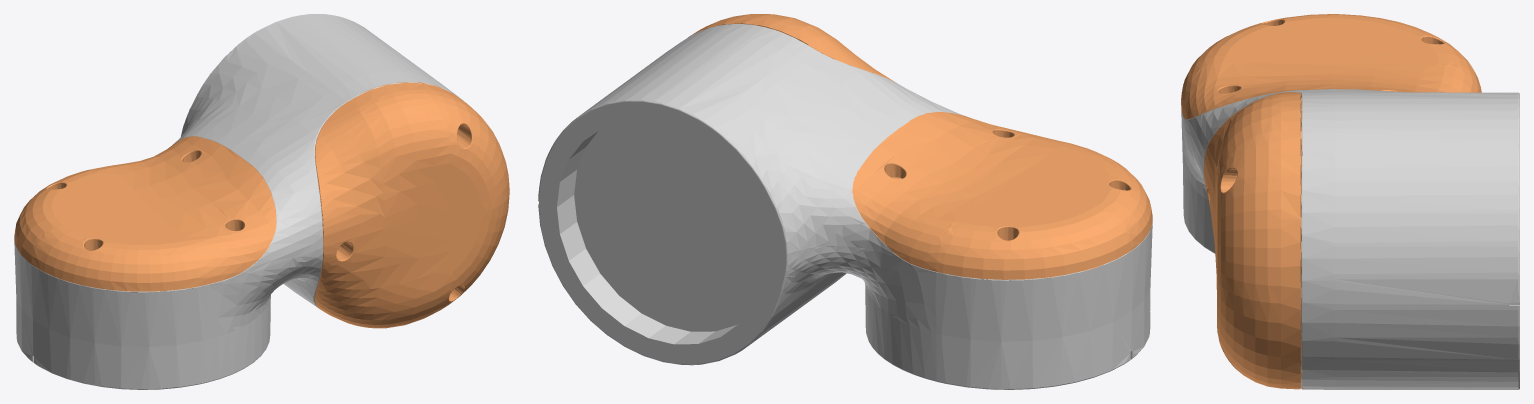
3 views of the same model, side by side, from view 1: azimuth 30°, elevation 25°; view 2: azimuth 150°, elevation 25°; view 3: azimuth 270°, elevation 25° (orthographic). The views are drawn at different scales.
Visible parts, largest first — view 1: Link; view 2: Link; view 3: Link.
Boxes of the visible parts, x1,y1,x2,y2 form: Link: [14, 14, 509, 389]; Link: [538, 14, 1152, 389]; Link: [1181, 14, 1519, 389].
Bounding box in the file's own units: 0.1696 × 0.083 × 0.0946.
